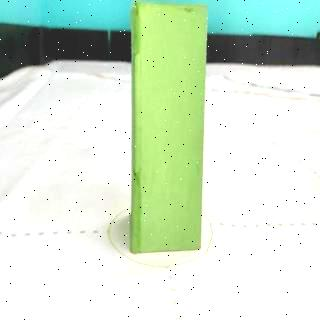greenbox: (130, 0, 207, 252)
